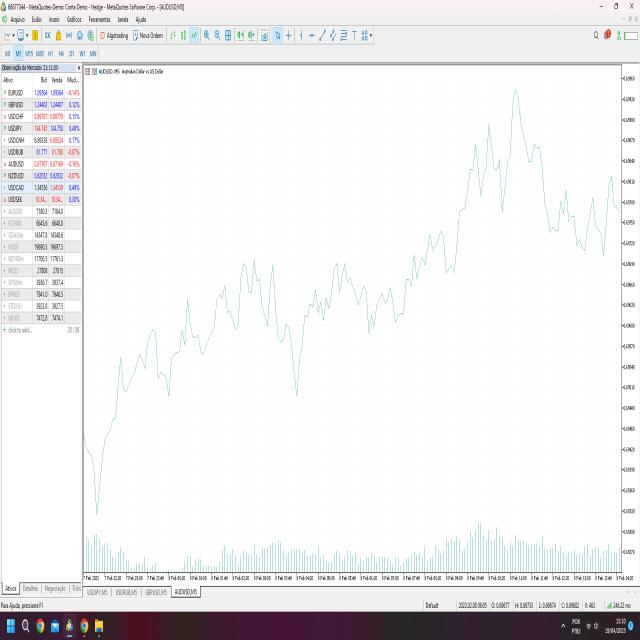oco: (480, 64, 551, 228)
topo_duplo: (238, 246, 264, 344)
